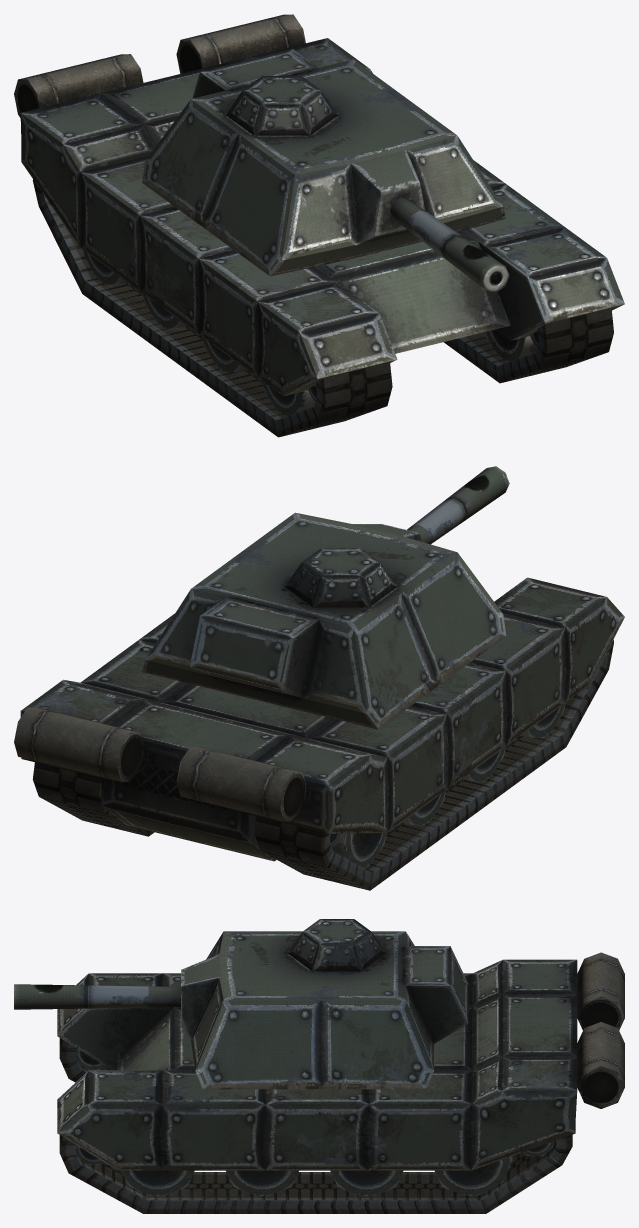
The model's file is Tank1_Game.fbx.
3 renders of one model, top to bottom at view 1: azimuth 30°, elevation 25°; view 2: azimuth 150°, elevation 25°; view 3: azimuth 270°, elevation 25°, orthographic. The views are drawn at different scales.
Parts seen in each view (by area): view 1: Body, Turet, Track, Gun; view 2: Body, Turet, Track, Gun; view 3: Body, Turet, Track, Gun.
Part boxes in pixels (bbox=[...]): Body: bbox=[14, 14, 624, 415]; Turet: bbox=[142, 49, 506, 276]; Track: bbox=[32, 179, 613, 437]; Gun: bbox=[390, 197, 509, 292]; Body: bbox=[14, 577, 624, 868]; Turet: bbox=[142, 512, 506, 729]; Track: bbox=[32, 640, 613, 890]; Gun: bbox=[407, 466, 509, 544]; Body: bbox=[57, 952, 624, 1195]; Turet: bbox=[181, 919, 468, 1089]; Track: bbox=[59, 1038, 572, 1213]; Gun: bbox=[14, 984, 180, 1009].
Size of the model in its own units: 208 by 410 by 154.
Materials: 3 (3 with a texture image).
